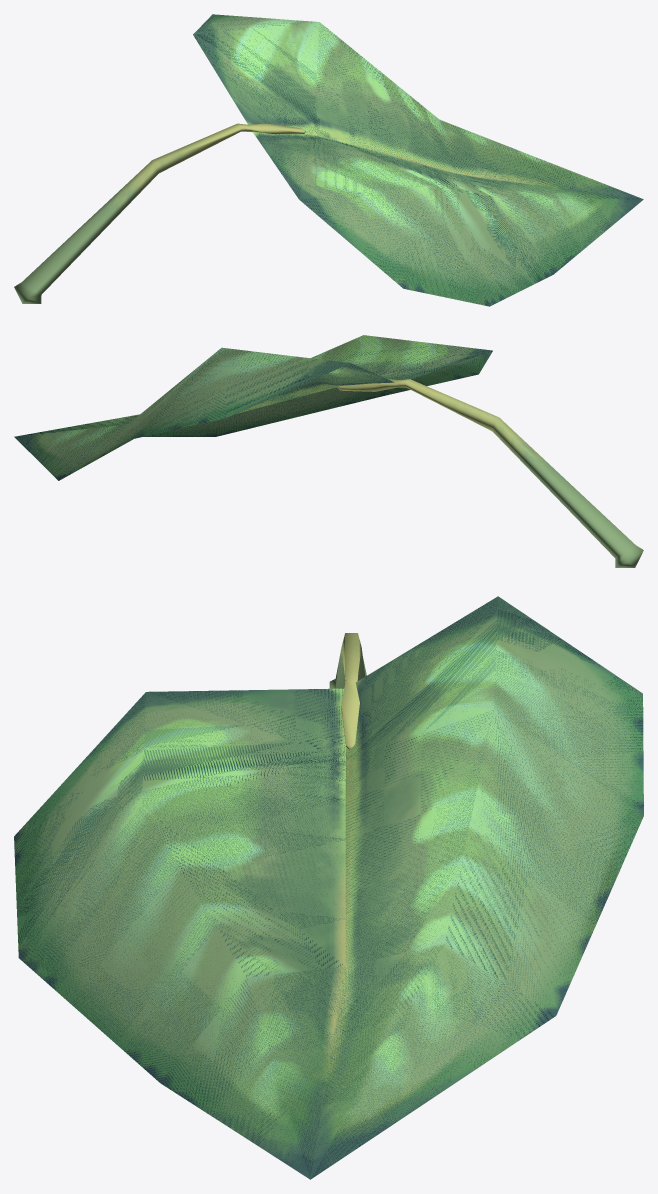
File: leaf02.fbx
The picture shows the model from 3 angles, top to bottom: view 1: azimuth 30°, elevation 25°; view 2: azimuth 150°, elevation 25°; view 3: azimuth 270°, elevation 25°; orthographic projection. The views are drawn at different scales.
Visible parts, largest first — view 1: leaf02; view 2: leaf02; view 3: leaf02.
Boxes of the visible parts, x1,y1,x2,y2 form: leaf02: [14, 14, 643, 306]; leaf02: [14, 335, 643, 567]; leaf02: [14, 596, 643, 1179].
Bounding box in the file's own units: 0.8359 × 0.2822 × 0.5145.
